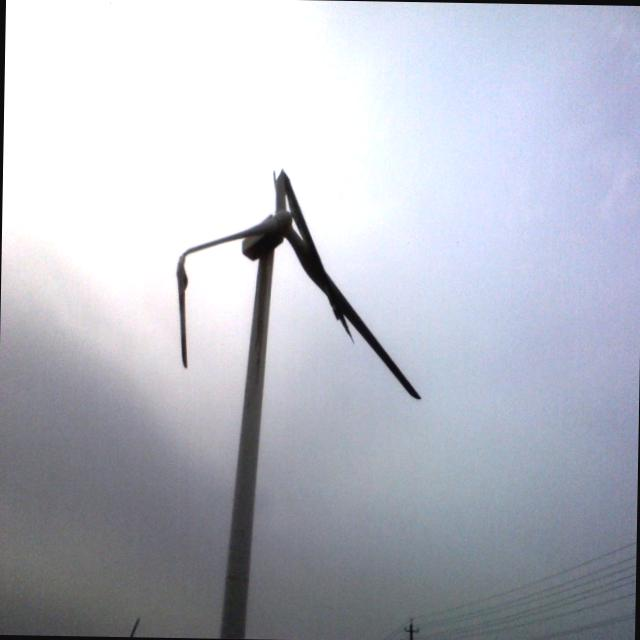crack: (268, 164, 354, 333), (170, 244, 200, 369)
